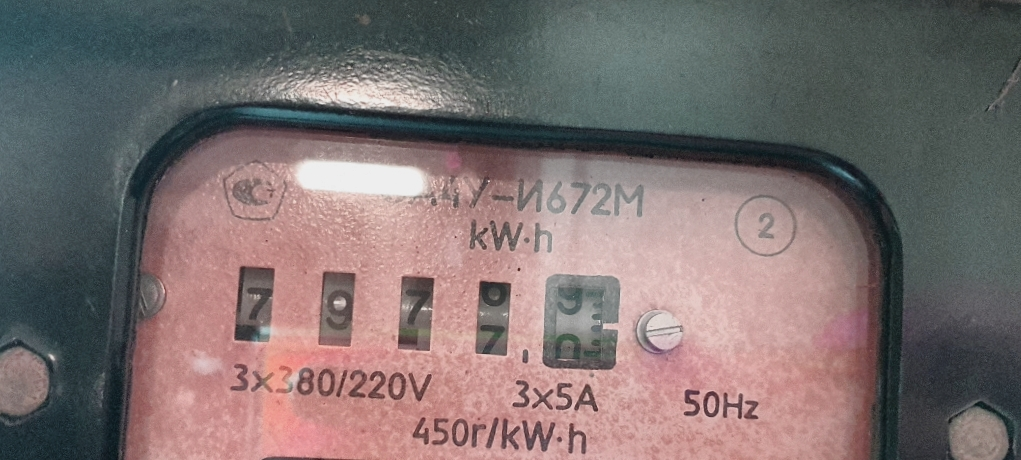0: (550, 326, 584, 366)
7: (400, 284, 432, 328), (241, 282, 273, 325), (475, 320, 507, 357)
9: (320, 285, 356, 332), (554, 279, 586, 316)
screen: (213, 242, 645, 392)
